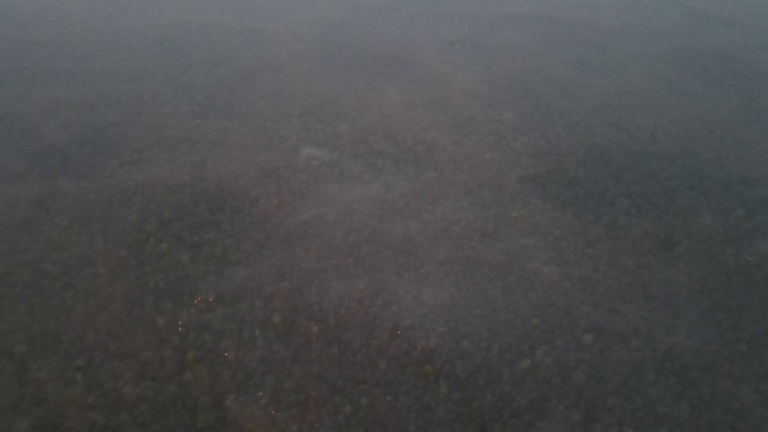fire: (174, 293, 216, 336), (393, 327, 402, 340), (222, 352, 234, 360), (267, 408, 277, 415)
smoke: (284, 140, 338, 177)
